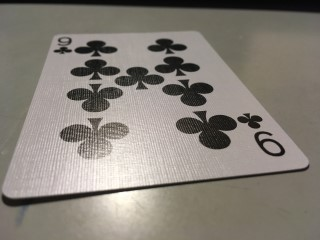NineOfClubs: (1, 30, 311, 200)
